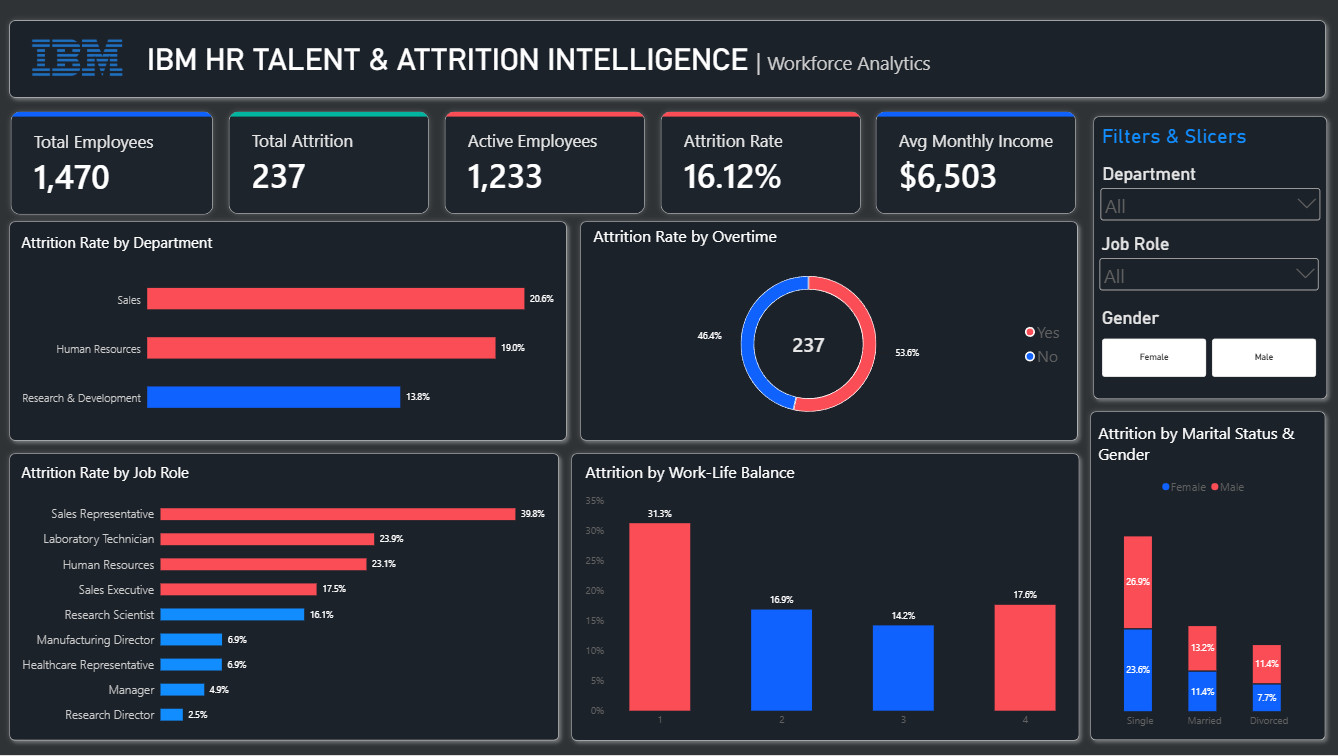

The page's visual inventory and layout, read from the dashboard file:
{"tool":"powerbi","page":{"name":"Page 1","canvas":[1920,1080],"ordinal":0},"visuals":[{"type":"shape","box":[10,21.4,1898.6,128.6],"z":0},{"type":"cardVisual","fields":{"Data":["HR Dashboard DATA.Total Employees"]},"box":[10,150,311.4,169],"z":0,"group":"g1"},{"type":"textbox","box":[215,61.7,1243.3,63.3],"z":1000},{"type":"cardVisual","fields":{"Data":["HR Dashboard DATA.Attrition Count"]},"box":[321.4,150,308.2,168.3],"z":1000,"group":"g1"},{"type":"group","id":"g1","title":"Group 1","box":[10,150,1545,168.3],"z":2000},{"type":"cardVisual","fields":{"Data":["HR Dashboard DATA.Active Employees"]},"box":[629.7,150,308.2,168.3],"z":2000,"group":"g1"},{"type":"cardVisual","fields":{"Data":["HR Dashboard DATA.Attrition Rate"]},"box":[937.9,150,308.2,168.3],"z":3000,"group":"g1"},{"type":"shape","box":[10,308.6,814.3,331.4],"z":3000},{"type":"cardVisual","fields":{"Data":["HR Dashboard DATA.Avg Monthly Income"]},"box":[1246.1,150,308.2,168.3],"z":4000,"group":"g1"},{"type":"barChart","title":"Attrition Rate by Department","fields":{"Category":["HR Dashboard DATA.department"],"Y":["HR Dashboard DATA.Attrition Rate"]},"box":[20,318.6,792.9,314.3],"z":4000},{"type":"shape","box":[10,640,803.3,428.3],"z":5000},{"type":"barChart","title":"Attrition Rate by Job Role","fields":{"Category":["HR Dashboard DATA.job_role"],"Y":["HR Dashboard DATA.Attrition Rate"]},"box":[20,646.7,780,415],"z":6000},{"type":"shape","box":[826.2,308.8,728.8,331.2],"z":7000},{"type":"donutChart","title":"Attrition Rate by Overtime","fields":{"Category":["HR Dashboard DATA.over_time"],"Y":["HR Dashboard DATA.Attrition Count"]},"box":[837.1,308.6,707.1,324.3],"z":8000},{"type":"shape","box":[812.5,640,743.8,428.8],"z":9000},{"type":"columnChart","title":"Attrition by Work-Life Balance","fields":{"Category":["HR Dashboard DATA.work_life_balance"],"Y":["HR Dashboard DATA.Attrition Rate"]},"box":[826.2,646.2,730,415],"z":10000},{"type":"image","box":[47.5,42.5,137.6,81.8],"z":11000},{"type":"shape","box":[1558,158,352,422],"z":12000},{"type":"slicer","fields":{"Values":["HR Dashboard DATA.department"]},"box":[1572.9,234.3,323.6,95.5],"z":13000},{"type":"advancedSlicerVisual","title":"Gender","fields":{"Values":["HR Dashboard DATA.gender"]},"box":[1580,440,307.5,100],"z":14000},{"type":"slicer","fields":{"Values":["HR Dashboard DATA.job_role"]},"box":[1572,334,323.3,95],"z":15000},{"type":"textbox","box":[1580,178.6,247.1,45.7],"z":16000},{"type":"shape","box":[1554,580,354,488],"z":17000},{"type":"columnChart","title":"Attrition by Marital Status & Gender","fields":{"Category":["HR Dashboard DATA.marital_status"],"Y":["HR Dashboard DATA.Attrition Rate"],"Series":["HR Dashboard DATA.gender"]},"box":[1558.6,590,335.7,471.4],"z":18000}]}

Visuals, with their boxes in screenshot pixels (x1, y1, x2, y2), scaled from the page's 1920x1080 canvas onto the 1338x756 screenshot:
shape: <region>7, 15, 1330, 105</region>
cardVisual - HR Dashboard DATA.Total Employees: <region>7, 105, 224, 223</region>
textbox: <region>150, 43, 1016, 88</region>
cardVisual - HR Dashboard DATA.Attrition Count: <region>224, 105, 439, 223</region>
"Group 1" group: <region>7, 105, 1084, 223</region>
cardVisual - HR Dashboard DATA.Active Employees: <region>439, 105, 654, 223</region>
cardVisual - HR Dashboard DATA.Attrition Rate: <region>654, 105, 868, 223</region>
shape: <region>7, 216, 574, 448</region>
cardVisual - HR Dashboard DATA.Avg Monthly Income: <region>868, 105, 1083, 223</region>
"Attrition Rate by Department" barChart: <region>14, 223, 566, 443</region>
shape: <region>7, 448, 567, 748</region>
"Attrition Rate by Job Role" barChart: <region>14, 453, 558, 743</region>
shape: <region>576, 216, 1084, 448</region>
"Attrition Rate by Overtime" donutChart: <region>583, 216, 1076, 443</region>
shape: <region>566, 448, 1085, 748</region>
"Attrition by Work-Life Balance" columnChart: <region>576, 452, 1084, 743</region>
image: <region>33, 30, 129, 87</region>
shape: <region>1086, 111, 1331, 406</region>
slicer - HR Dashboard DATA.department: <region>1096, 164, 1322, 231</region>
"Gender" advancedSlicerVisual: <region>1101, 308, 1315, 378</region>
slicer - HR Dashboard DATA.job_role: <region>1095, 234, 1321, 300</region>
textbox: <region>1101, 125, 1273, 157</region>
shape: <region>1083, 406, 1330, 748</region>
"Attrition by Marital Status & Gender" columnChart: <region>1086, 413, 1320, 743</region>
